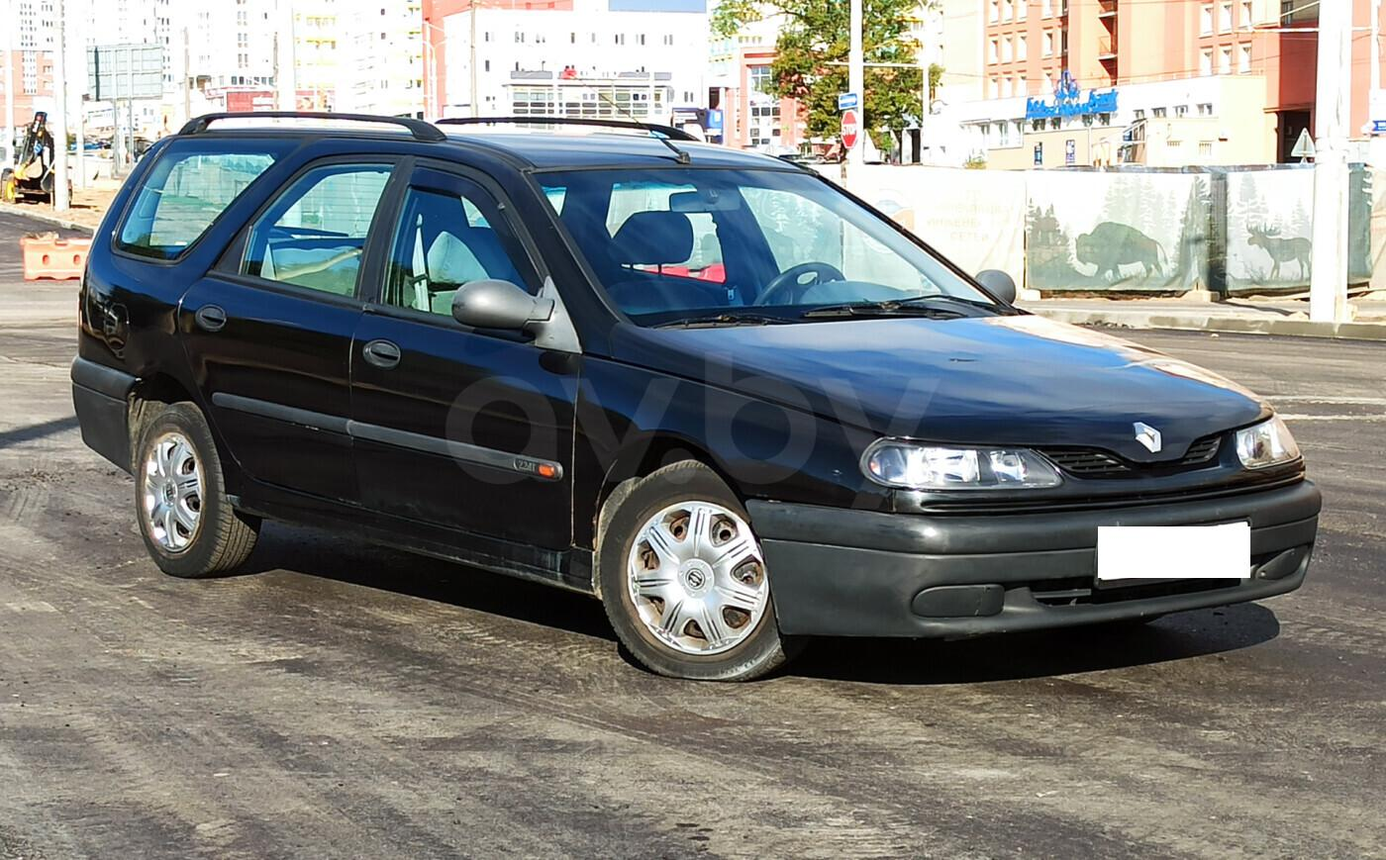Lahuna_1993-1999: (65, 108, 1335, 685)
